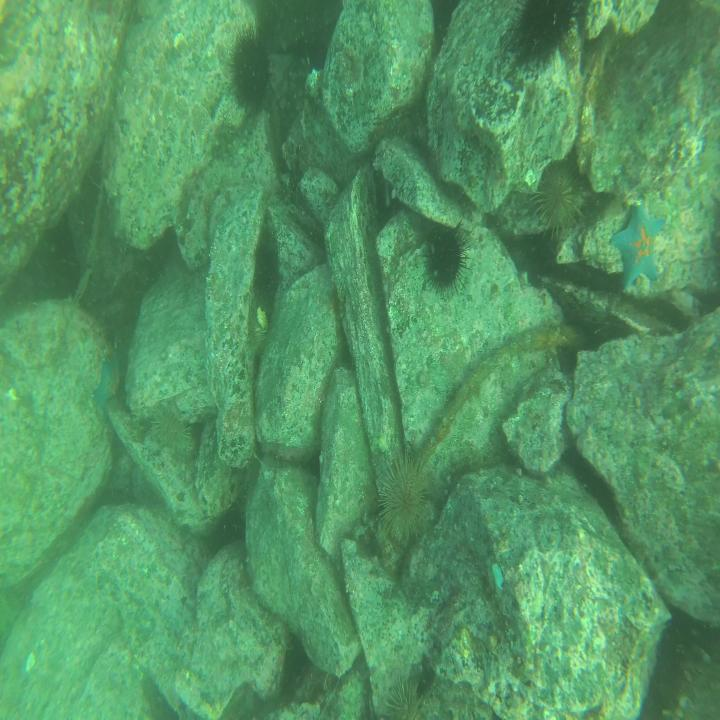echinus: (376, 448, 432, 538), (512, 4, 588, 65), (536, 154, 583, 234), (426, 218, 467, 297), (230, 24, 271, 102), (382, 677, 435, 720)
starfish: (609, 198, 671, 290), (96, 360, 124, 420)
